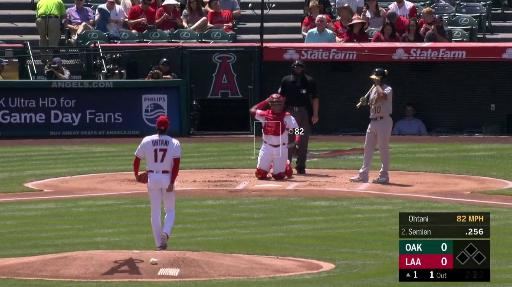pitcher: (133, 114, 183, 251)
